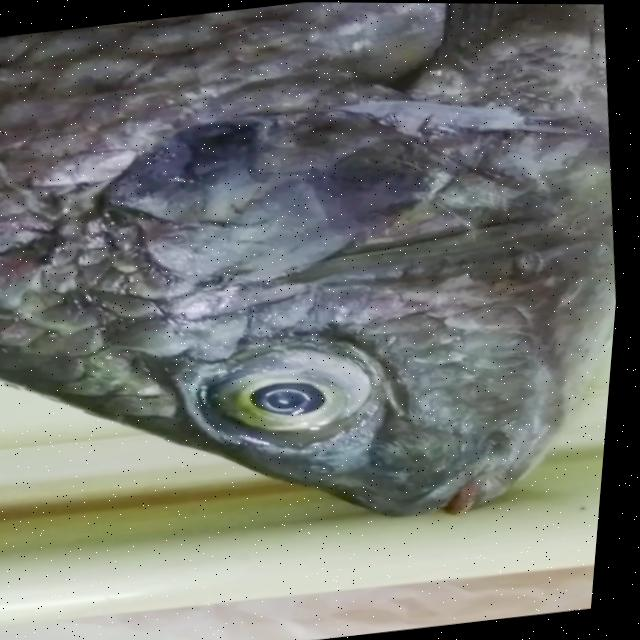Non-Fresh: (157, 304, 434, 482)
